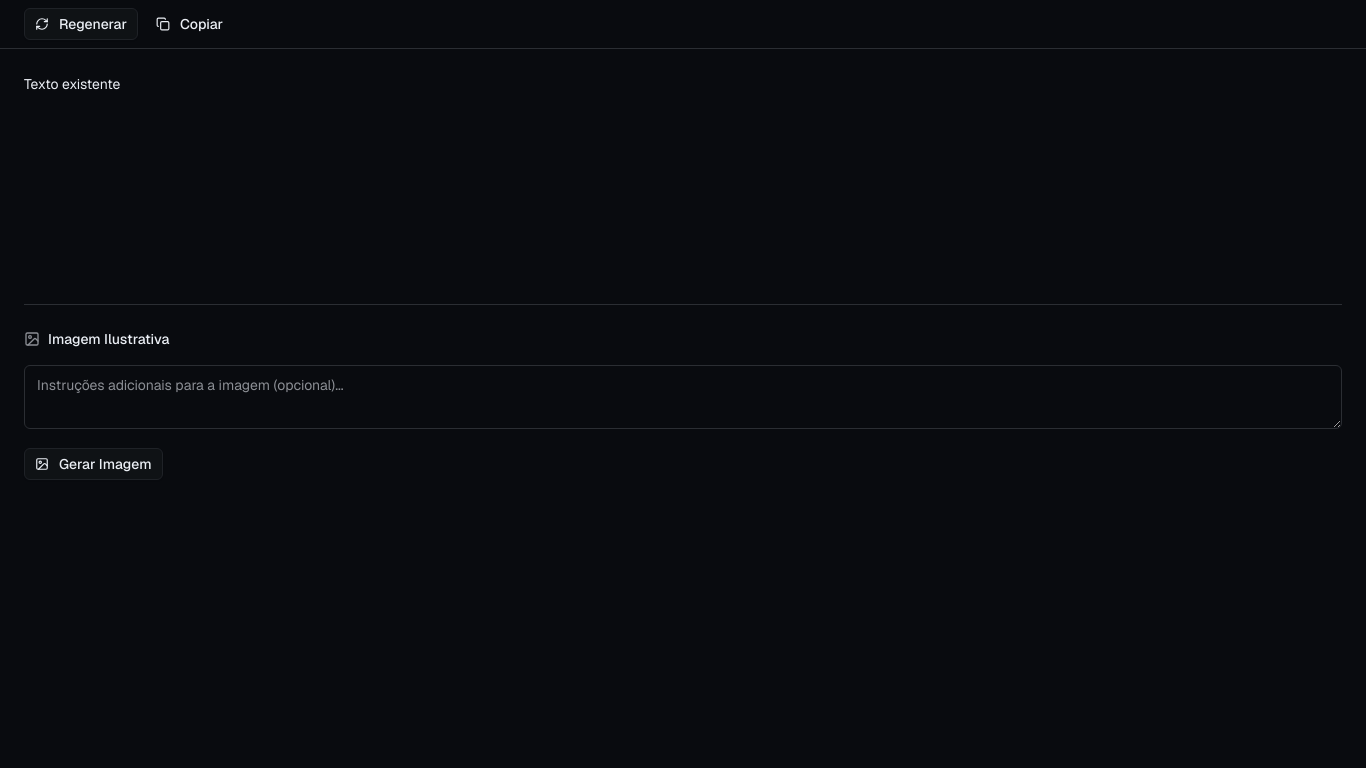
NewsSocialPhase › hides additionalContext textarea when cancel is clicked
The image size is (1366, 768).
Click the button with test id "regenerate-social-button": [81, 24] box [24,8,138,40]
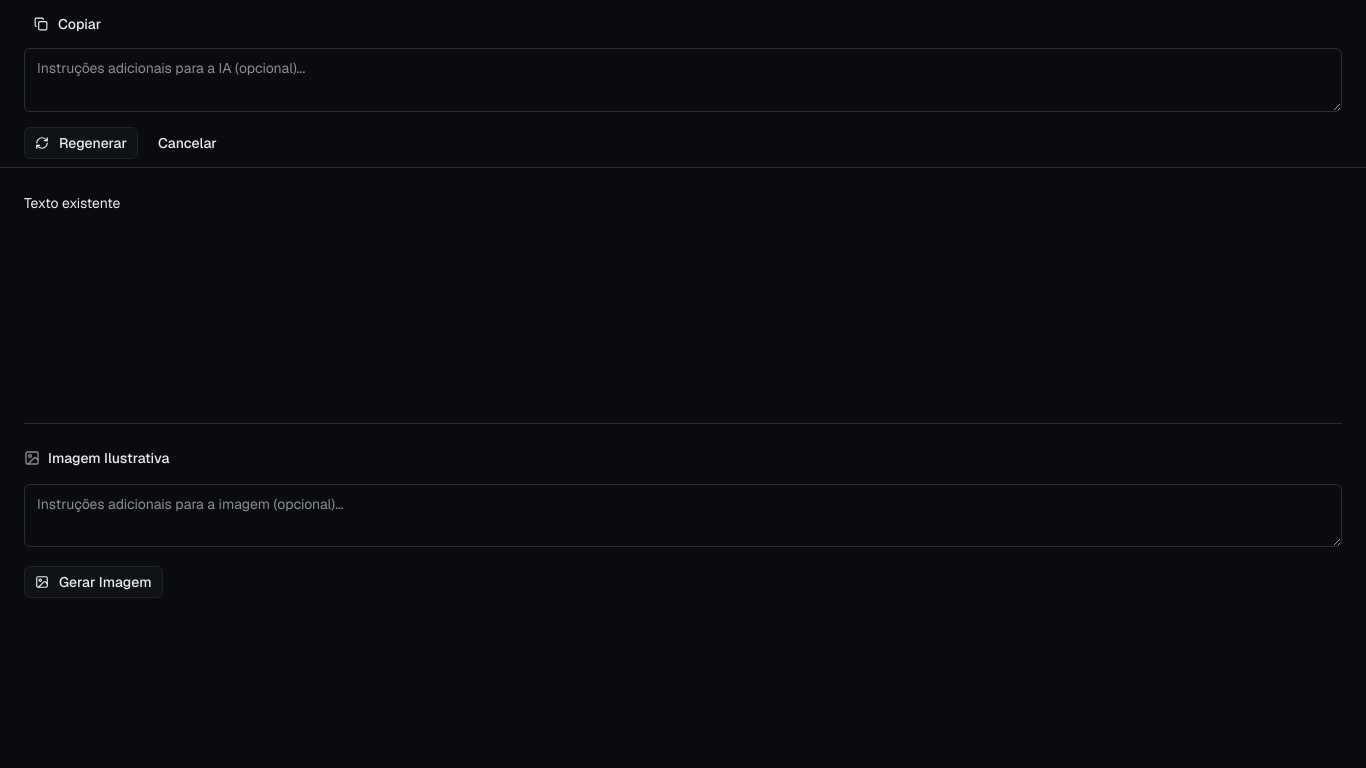
Check: the text box with test id "additional-context-input" is shown, box [24,48,1342,112]
Click the button "Cancelar": [187, 142] box [146,126,229,158]
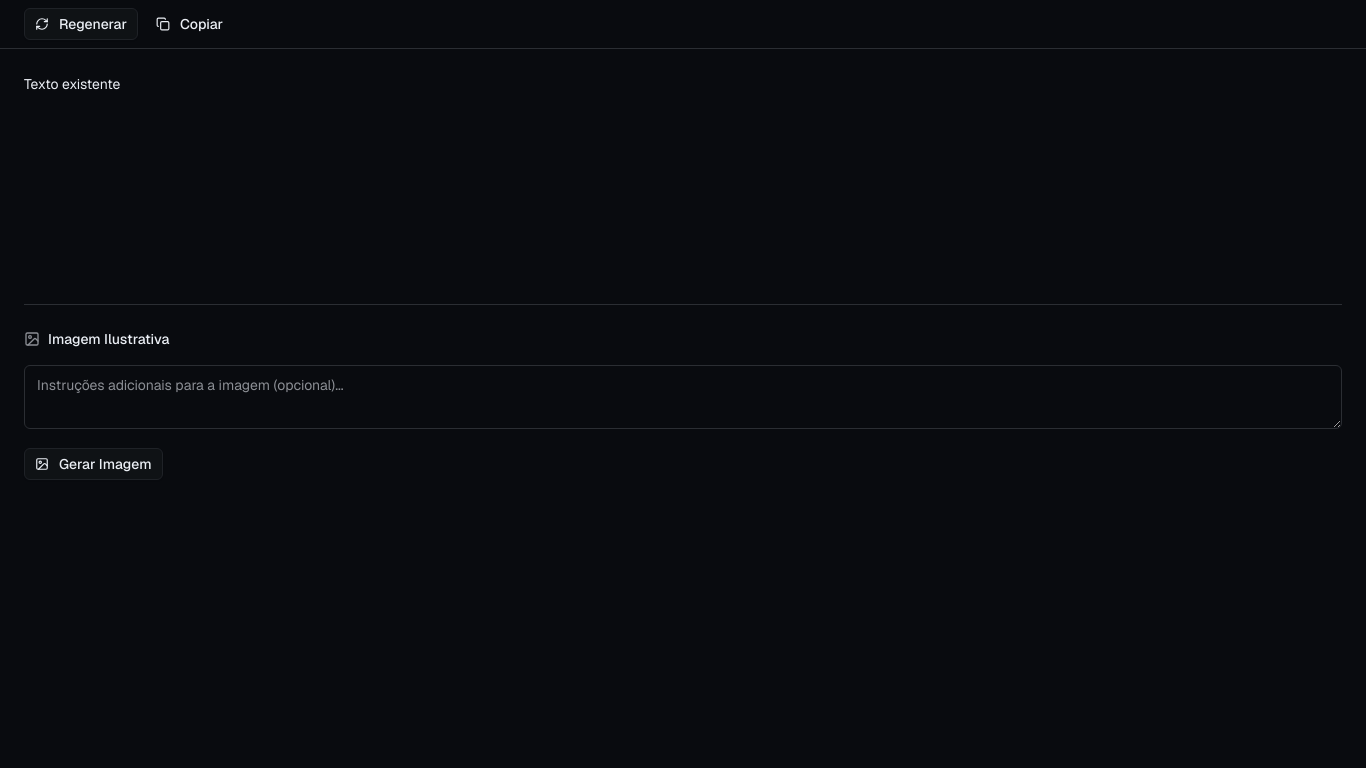
Check: the text box with test id "additional-context-input" is gone
